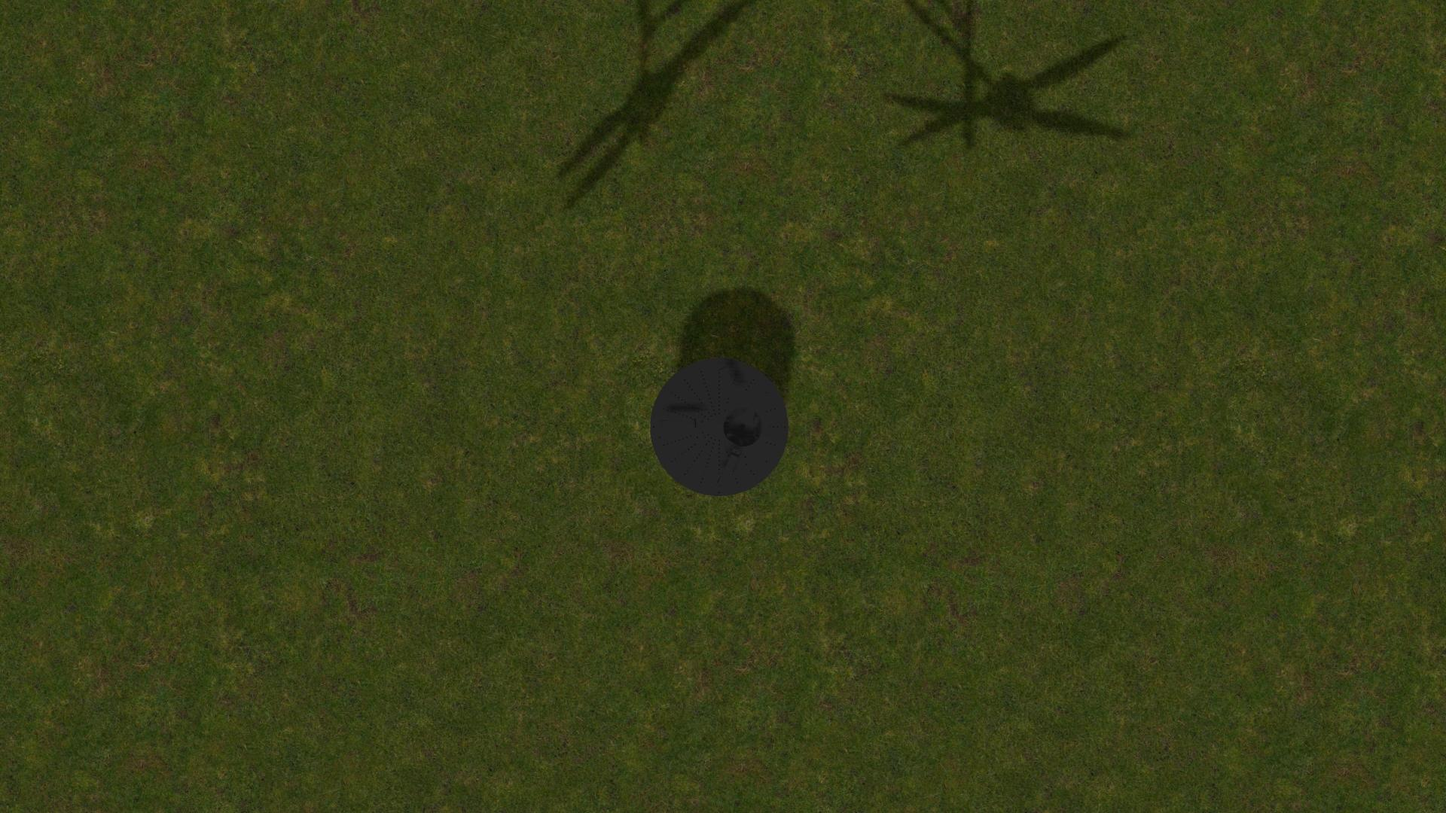alca: (715, 448, 740, 490), (717, 363, 741, 404), (657, 419, 700, 429)
armadilha: (650, 358, 788, 496)
